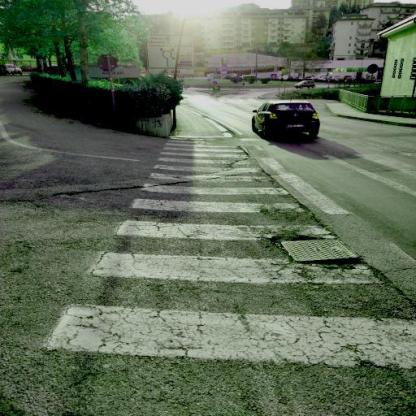crosswalk: (27, 244, 415, 374), (127, 181, 307, 218)
